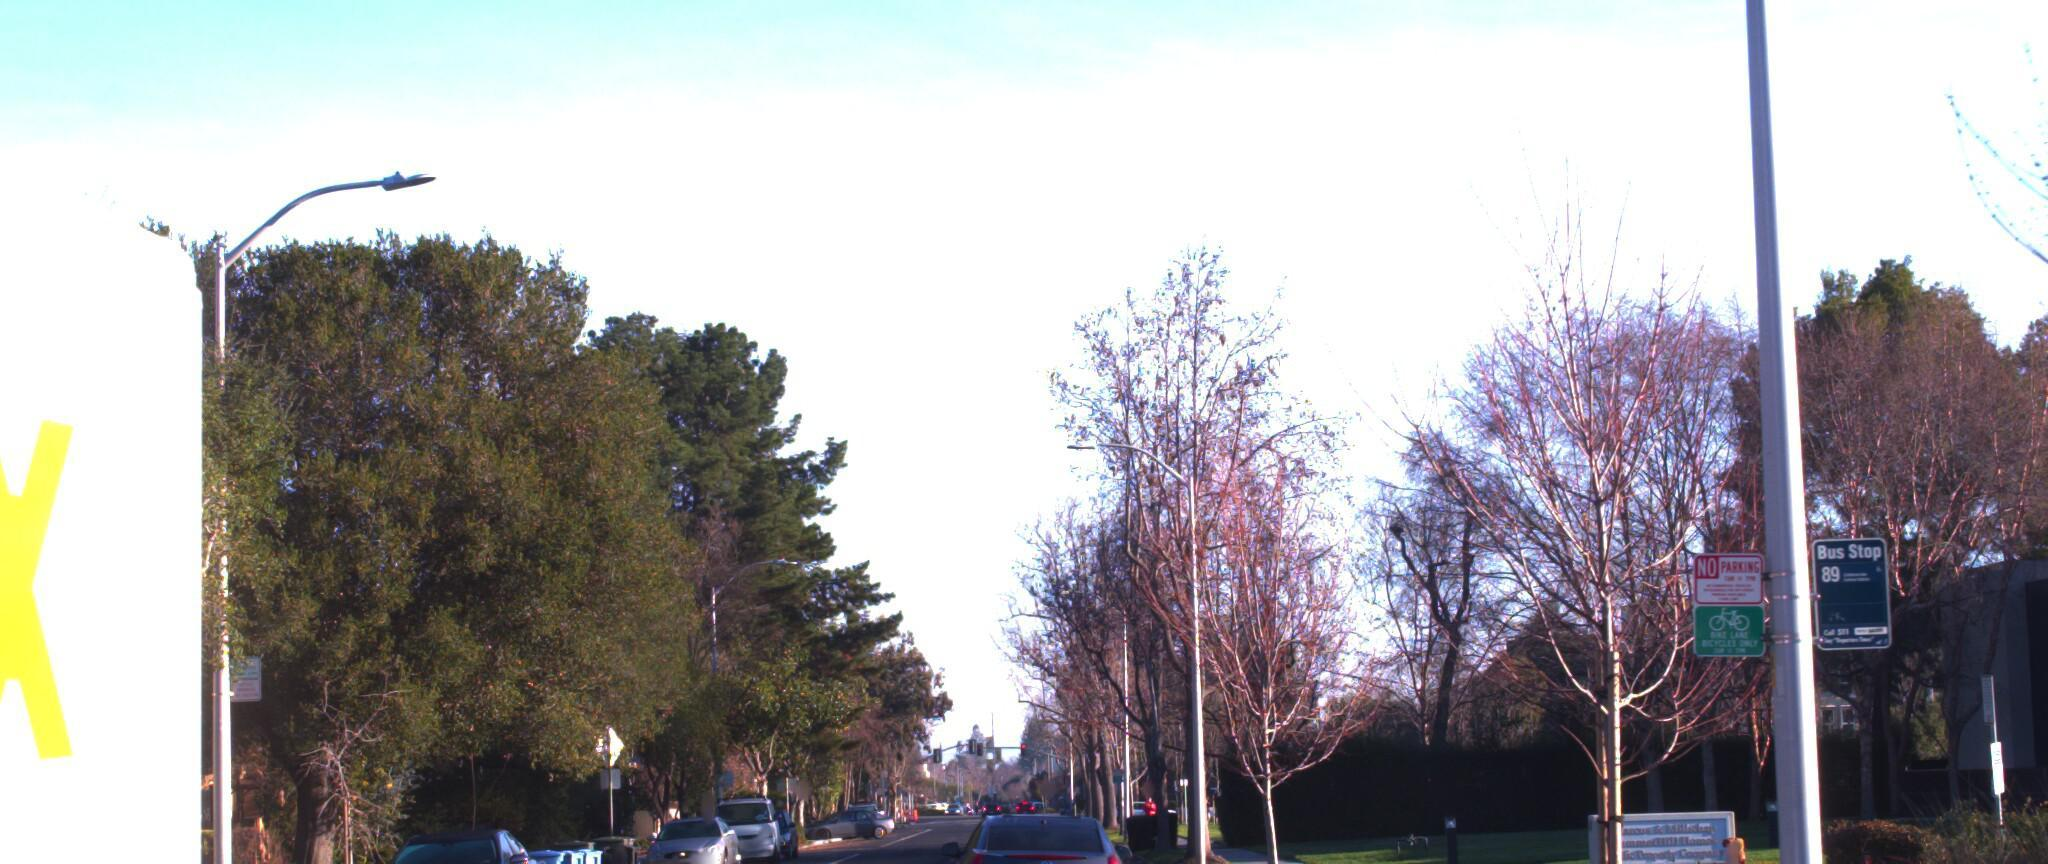car: (936, 784, 1151, 864), (350, 807, 562, 864), (636, 794, 750, 864), (705, 773, 790, 844)
truck: (0, 0, 217, 864)
